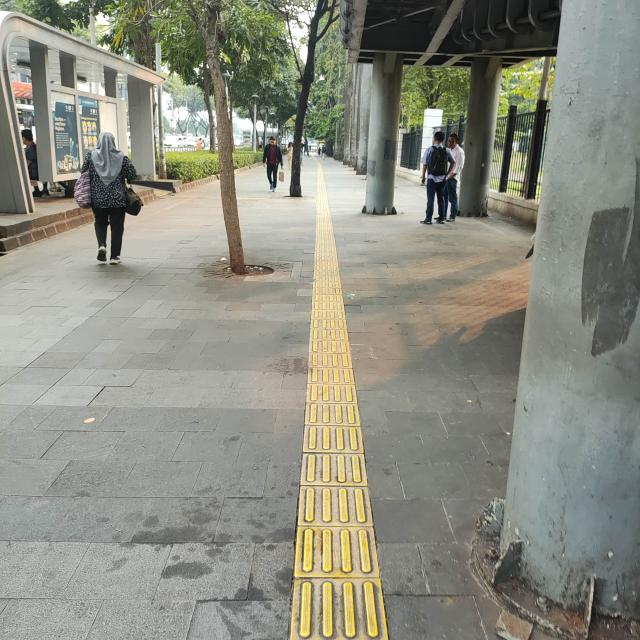lurus: (282, 218, 384, 640)
